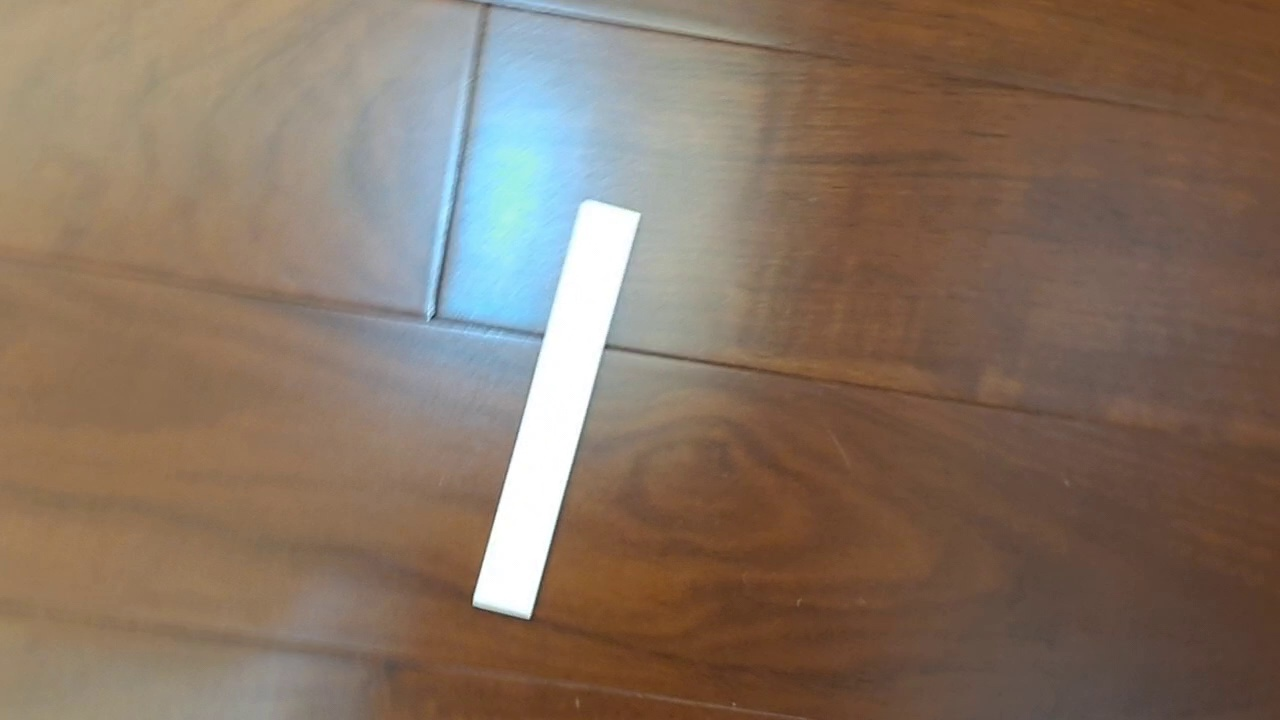ruler: (471, 198, 642, 622)
